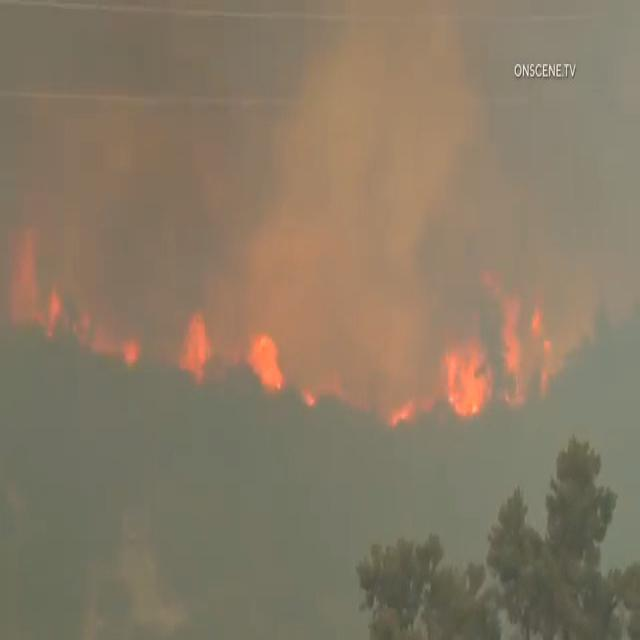fire: (446, 322, 496, 424)
